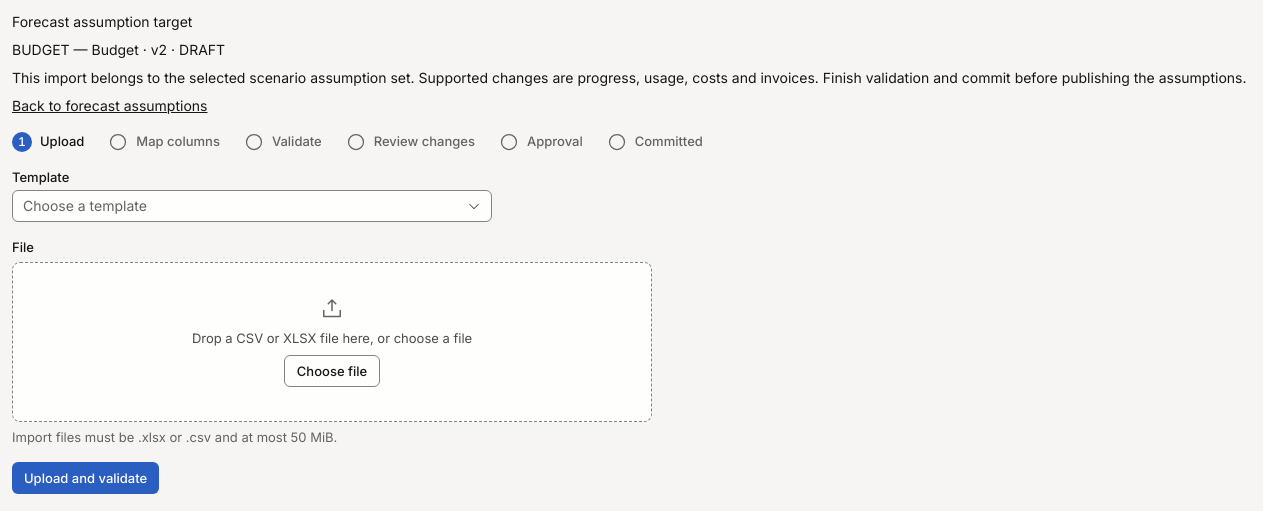
Test case: shows the selected draft and restricts import templates to forecast facts
The image size is (1263, 511).
Check: the text "BUDGET — Budget · v2 · DRAFT" is shown, box [12,41,225,58]
Click the dropdown labelled "template" at (252, 206), box [12,190,492,222]
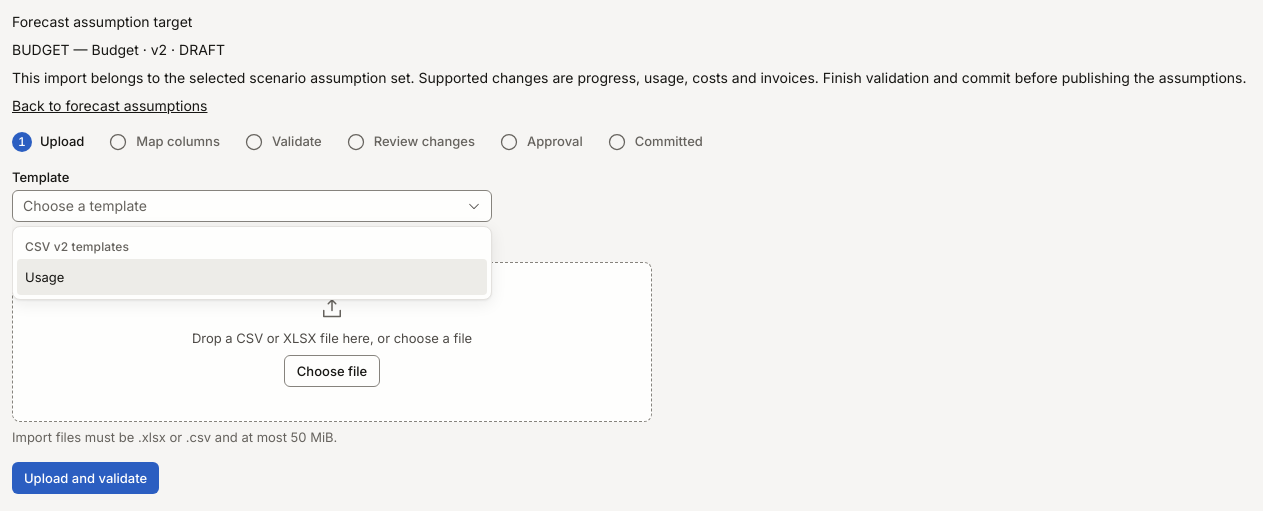
Check: the option "Usage" is shown, box [17,259,487,295]
